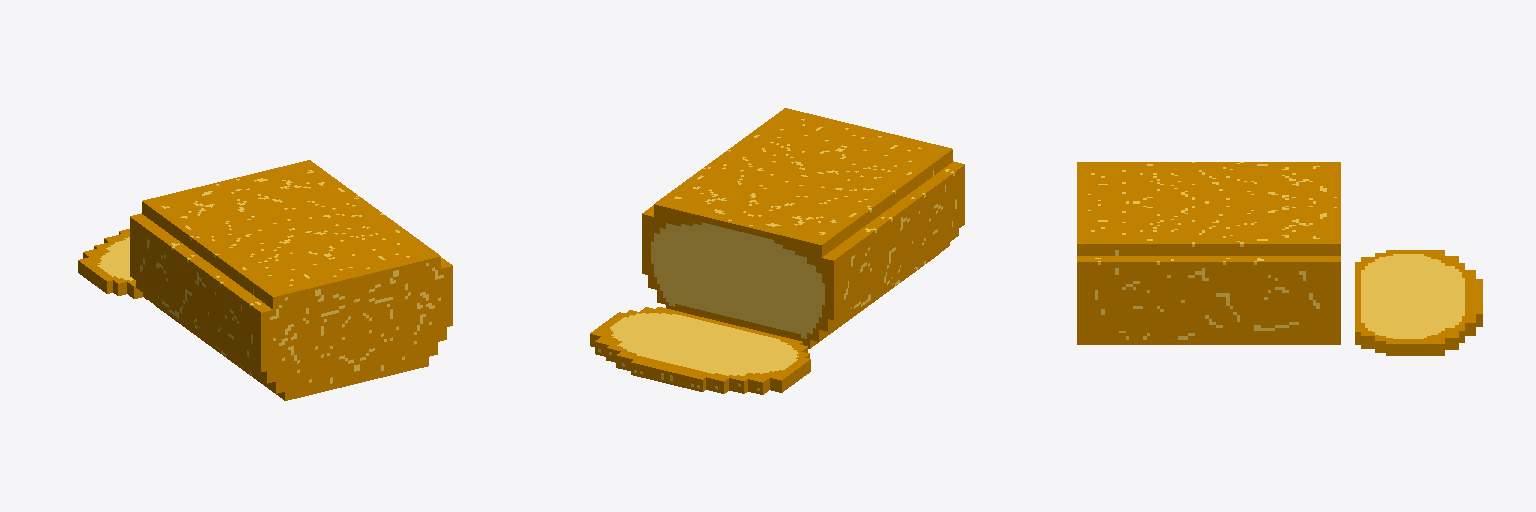
The picture shows the model from 3 angles: view 1: azimuth 30°, elevation 25°; view 2: azimuth 150°, elevation 25°; view 3: azimuth 270°, elevation 25°; orthographic projection.
Parts seen in each view (by area): view 1: object 1; view 2: object 1; view 3: object 1.
Part boxes in pixels (x1,y1,x2,y2): object 1: (78, 160, 452, 400); object 1: (590, 108, 964, 394); object 1: (1077, 162, 1482, 355).
Bounding box in the file's own units: 6.4 × 3.4 × 11.7.
1 materials, 1 textured.